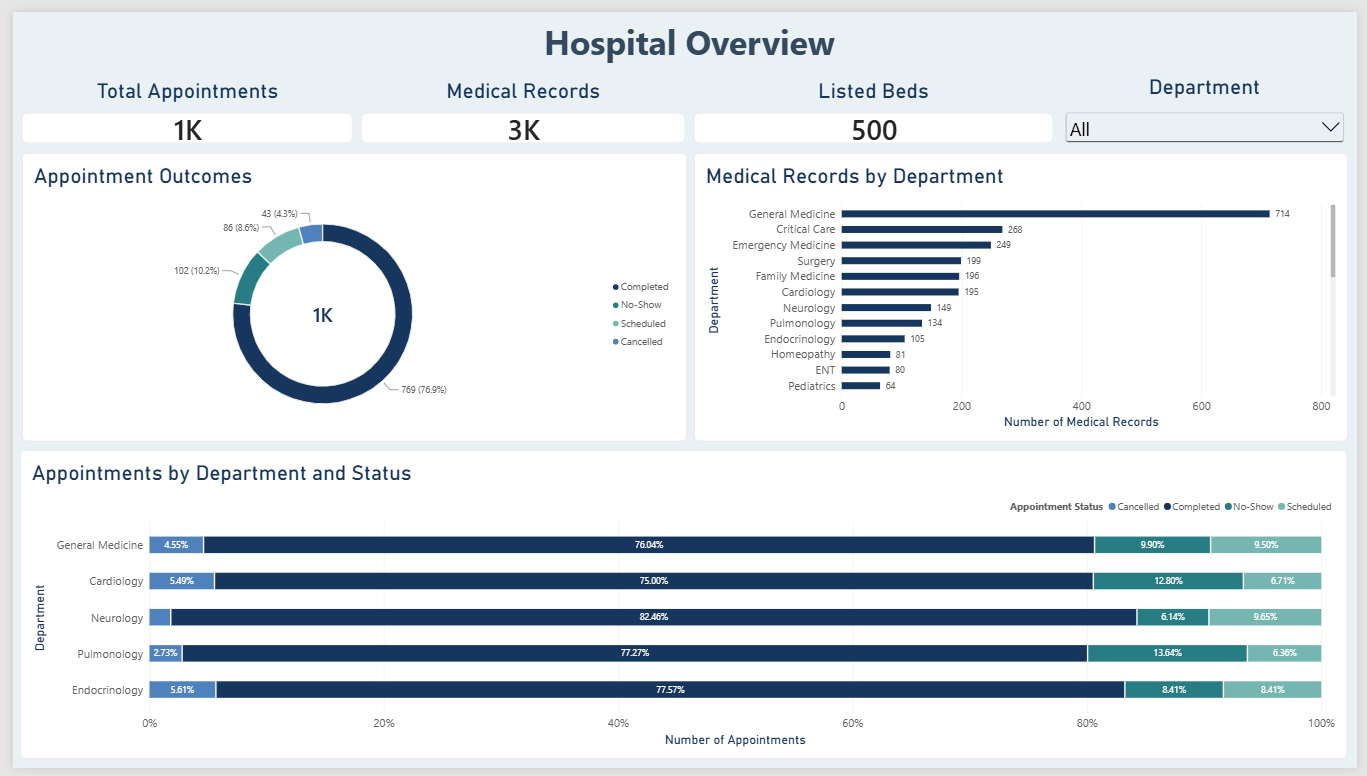

The dashboard page shown, as its layout file describes it:
{"tool":"powerbi","page":{"name":"Hospital Overview","canvas":[1920,1080],"ordinal":0},"visuals":[{"type":"cardVisual","title":"Total Appointments","fields":{"Data":["CountNonNull(Appointment.appoIntment_Id)"]},"box":[13.4,94.9,473,93.5],"z":0},{"type":"cardVisual","title":"Medical Records","fields":{"Data":["CountNonNull(MedicalRecord.record_Id)"]},"box":[497,94.9,463.6,93.5],"z":1},{"type":"cardVisual","title":"Listed Beds","fields":{"Data":["CountNonNull(Bed.bed_No)"]},"box":[972.7,94.9,513.1,93.5],"z":2},{"type":"donutChart","title":"Appointment Outcomes","fields":{"Category":["Appointment.appointment_status"],"Y":["CountNonNull(Appointment.appoIntment_Id)"]},"box":[13.4,201.8,950,411.5],"z":3},{"type":"hundredPercentStackedBarChart","title":"Appointments by Department and Status","fields":{"Category":["Department.dept_Name"],"Series":["Appointment.appointment_status"],"Y":["CountNonNull(Appointment.appoIntment_Id)"]},"box":[10.7,625.3,1895.9,440.9],"z":4},{"type":"clusteredBarChart","title":"Medical Records by Department","fields":{"Category":["Department.dept_Name"],"Y":["CountNonNull(MedicalRecord.record_Id)"]},"box":[972.7,201.8,933.9,411.5],"z":6},{"type":"textbox","box":[13.4,10.7,1893.3,68.1],"z":7},{"type":"slicer","title":"Department","fields":{"Values":["Department.dept_Name"]},"box":[1499.1,88.2,407.5,100.2],"z":8}]}

Visuals, with their boxes in screenshot pixels (x1, y1, x2, y2), scaled from the page's 1920x1080 canvas onto the 1367x776 screenshot:
"Total Appointments" cardVisual: bbox(10, 68, 346, 135)
"Medical Records" cardVisual: bbox(354, 68, 684, 135)
"Listed Beds" cardVisual: bbox(693, 68, 1058, 135)
"Appointment Outcomes" donutChart: bbox(10, 145, 686, 441)
"Appointments by Department and Status" hundredPercentStackedBarChart: bbox(8, 449, 1357, 766)
"Medical Records by Department" clusteredBarChart: bbox(693, 145, 1357, 441)
textbox: bbox(10, 8, 1358, 57)
"Department" slicer: bbox(1067, 63, 1357, 135)
